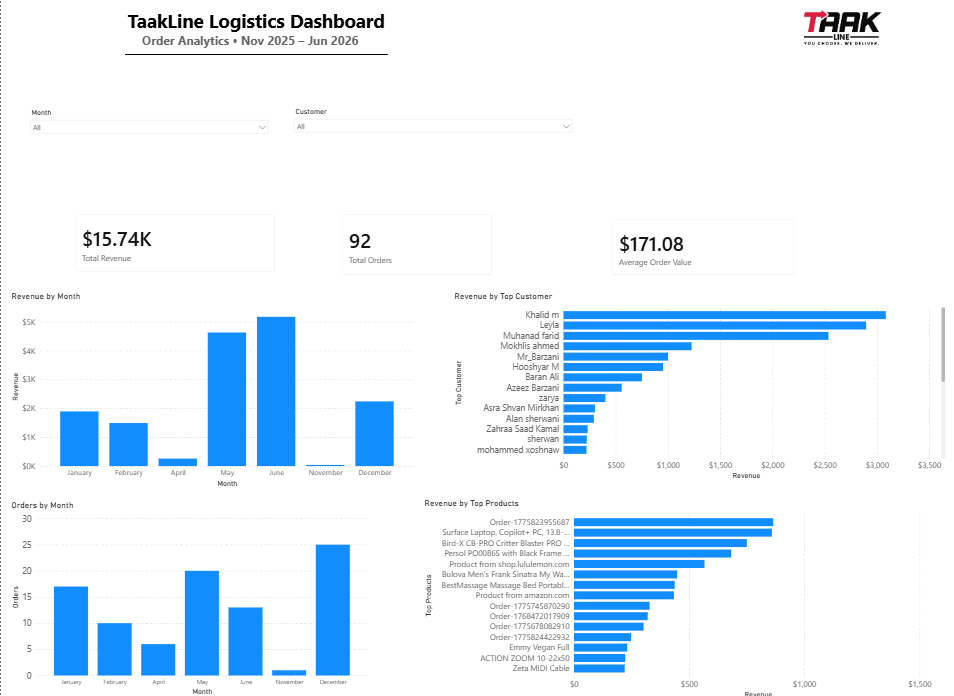

The dashboard page shown, as its layout file describes it:
{"tool":"powerbi","page":{"name":"Page 1","canvas":[1920,1400],"ordinal":0},"visuals":[{"type":"cardVisual","fields":{"Data":["Sum(public orders.total_amount)"]},"box":[131.7,411.7,433.3,148.3],"z":1000},{"type":"cardVisual","fields":{"Data":["Count(public orders.order_number)"]},"box":[665,411.7,333.3,155],"z":2000},{"type":"cardVisual","fields":{"Data":["Avg(public orders.total_amount)"]},"box":[1206.7,421.7,398.3,145],"z":3000},{"type":"clusteredColumnChart","fields":{"Category":["public orders.order_month"],"Y":["Sum(public orders.total_amount)"]},"box":[15.7,581.4,815.7,397.1],"z":4000},{"type":"clusteredBarChart","fields":{"Category":["public orders.customer_name"],"Y":["Sum(public orders.total_amount)"]},"box":[901.7,581.7,991.7,381.7],"z":5000},{"type":"clusteredBarChart","fields":{"Category":["public orders.primary_item"],"Y":["Sum(public orders.total_amount)"]},"box":[841.7,995,1078.3,405],"z":6000},{"type":"clusteredColumnChart","fields":{"Category":["public orders.order_month"],"Y":["Count(public orders.order_number)"]},"box":[15,1000,723.3,395],"z":7000},{"type":"slicer","fields":{"Values":["public orders.order_month"]},"box":[47.1,212.9,497.1,111.4],"z":8000},{"type":"slicer","fields":{"Values":["public orders.customer_name"]},"box":[575.7,210,577.1,115.7],"z":9000},{"type":"image","box":[1448.6,0,471.4,110],"z":11000},{"type":"textbox","box":[248.6,10,652.9,100],"z":12000},{"type":"shape","box":[248.6,34.3,525.7,150],"z":12001}]}

Visuals, with their boxes in screenshot pixels (x1, y1, x2, y2), scaled from the page's 1920x1400 canvas onto the 954x696 screenshot:
cardVisual - Sum(public orders.total_amount): select_region(65, 205, 281, 278)
cardVisual - Count(public orders.order_number): select_region(330, 205, 496, 282)
cardVisual - Avg(public orders.total_amount): select_region(600, 210, 797, 282)
clusteredColumnChart - public orders.order_month x Sum(public orders.total_amount): select_region(8, 289, 413, 486)
clusteredBarChart - public orders.customer_name x Sum(public orders.total_amount): select_region(448, 289, 941, 479)
clusteredBarChart - public orders.primary_item x Sum(public orders.total_amount): select_region(418, 495, 953, 695)
clusteredColumnChart - public orders.order_month x Count(public orders.order_number): select_region(7, 497, 367, 694)
slicer - public orders.order_month: select_region(23, 106, 270, 161)
slicer - public orders.customer_name: select_region(286, 104, 573, 162)
image: select_region(720, 0, 953, 55)
textbox: select_region(124, 5, 448, 55)
shape: select_region(124, 17, 385, 92)
